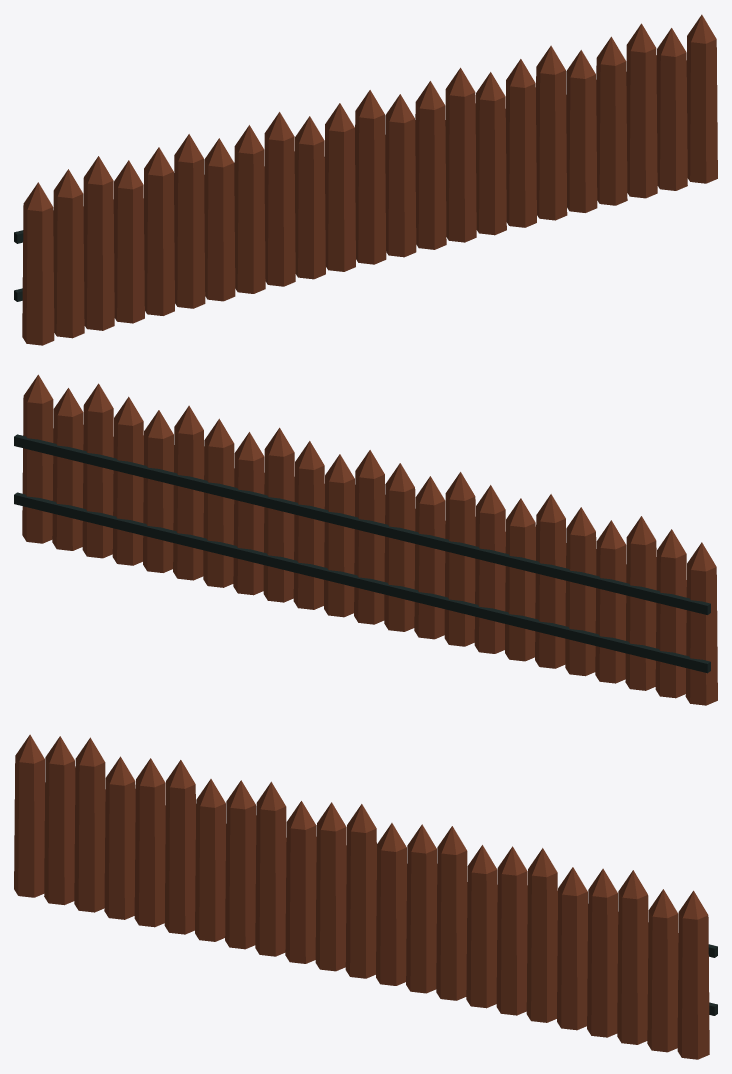
File: bird_wall.glb
3 views of the same model, one above another, from view 1: azimuth 30°, elevation 25°; view 2: azimuth 150°, elevation 25°; view 3: azimuth 330°, elevation 25° (orthographic).
Parts seen in each view (by area): view 1: bird_wall; view 2: bird_wall; view 3: bird_wall.
Boxes of the visible parts, x1=… form: bird_wall: x1=14, y1=14, x2=717, y2=345; bird_wall: x1=14, y1=374, x2=717, y2=705; bird_wall: x1=14, y1=734, x2=717, y2=1059.
Bounding box in the file's own units: 6.25 × 1.45 × 0.2706.
